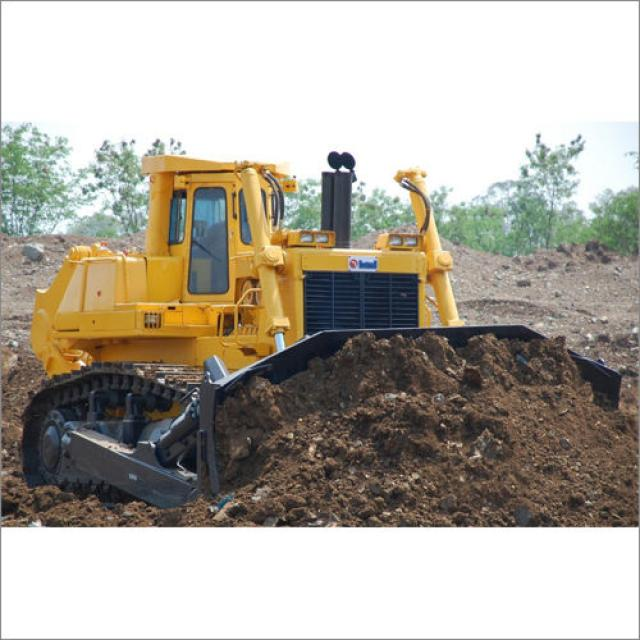buldozerpayloadergrader: (21, 136, 625, 514)
